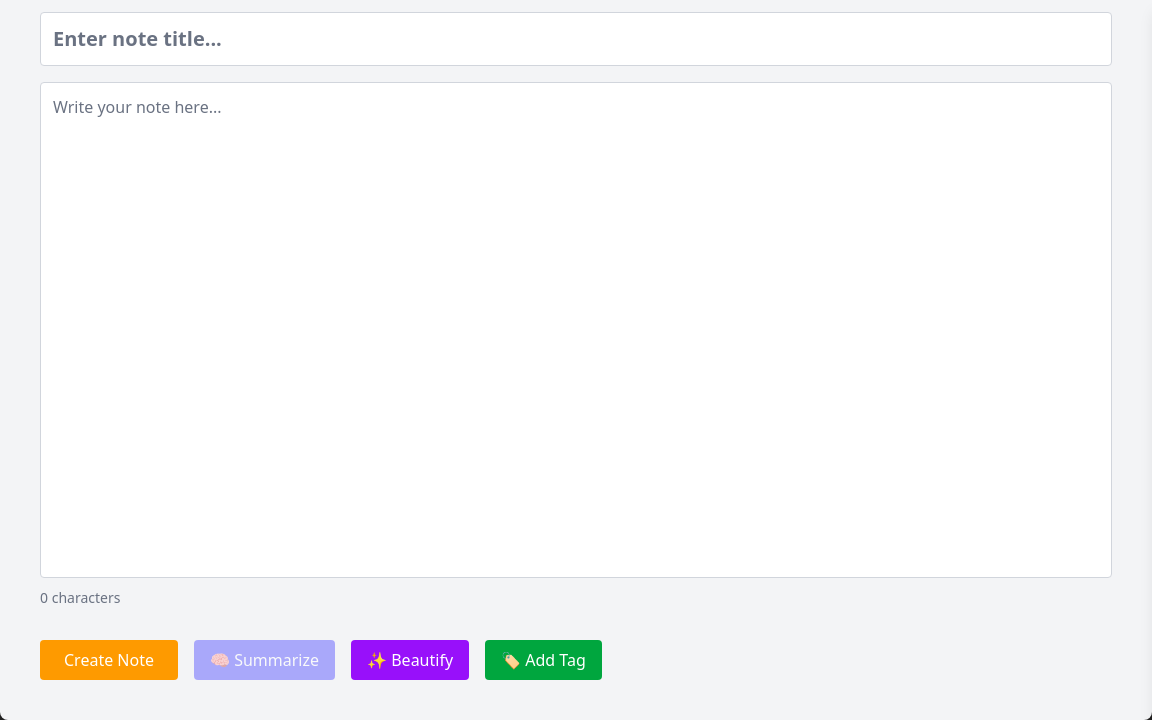
Test: CreateNoteForm Component › beautifies content when Beautify is clicked
(page scrolled)
Click the button "✨ Beautify": (410, 660) [351, 640, 469, 680]
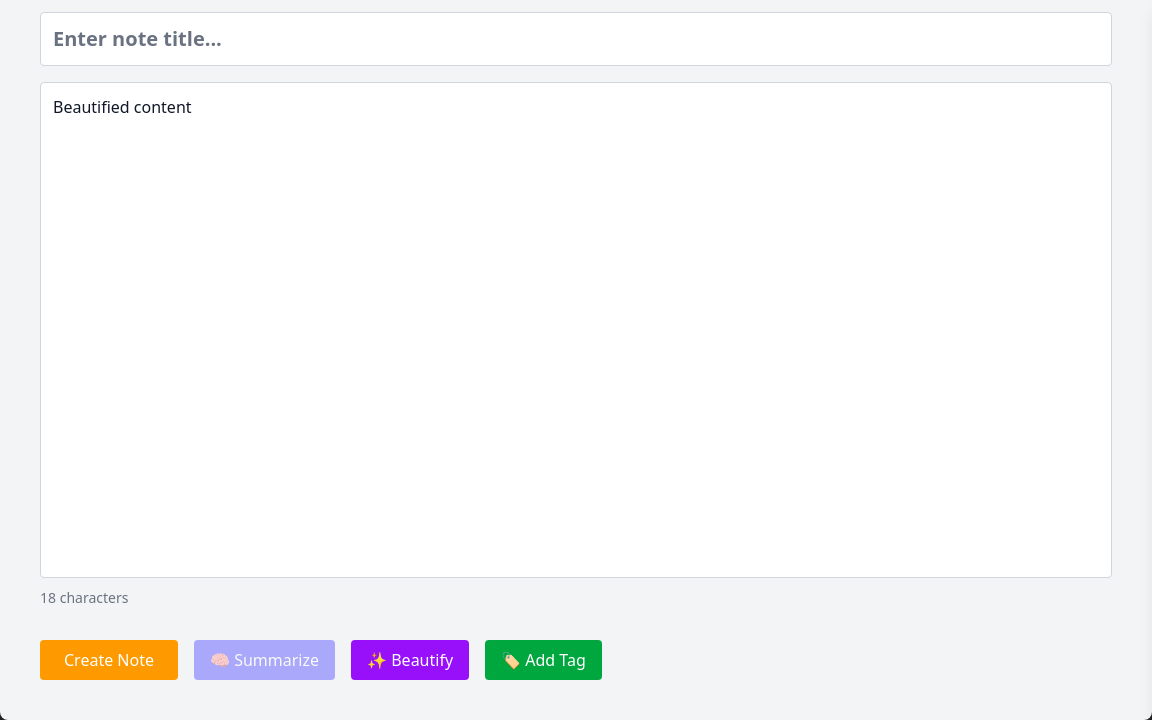
Expected: the text box showing "Beautified content" is shown
